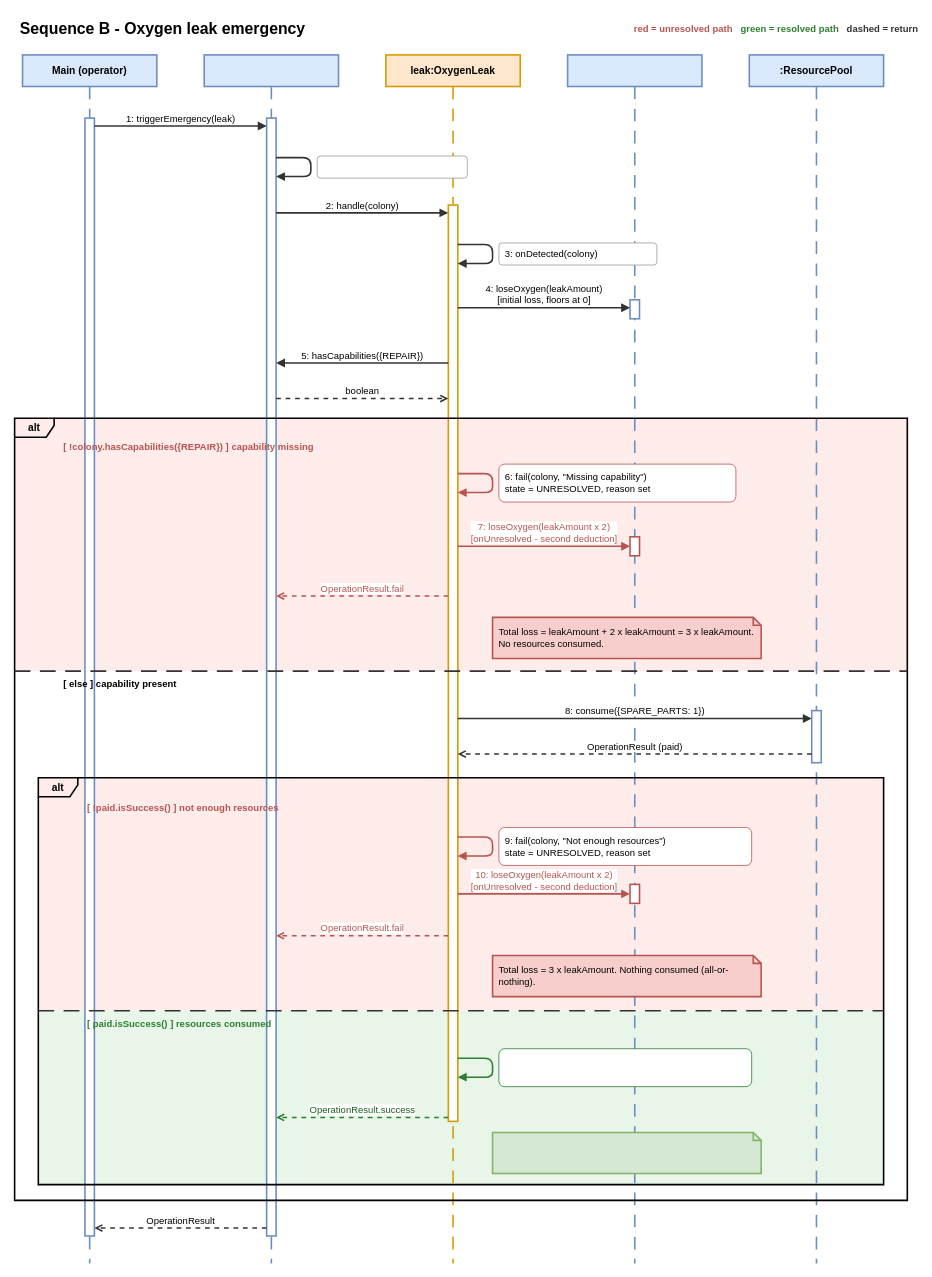
This 932x1277 diagram has some shape labels left out. The box of each missing label's shape, as (x1, y1, x2, y2) in pixels:
11: state = RESOLVED, reason = "Resolved" onResolved(colony) [no-op]: (498, 1048, 752, 1087)
:MarsColony: (203, 54, 339, 1264)
emergencyLog.add(leak): (316, 155, 467, 178)
habA:Habitat: (566, 54, 702, 1264)
Total loss = leakAmount (initial deduction only). 1 SPARE_PARTS consumed.: (491, 1131, 762, 1174)
